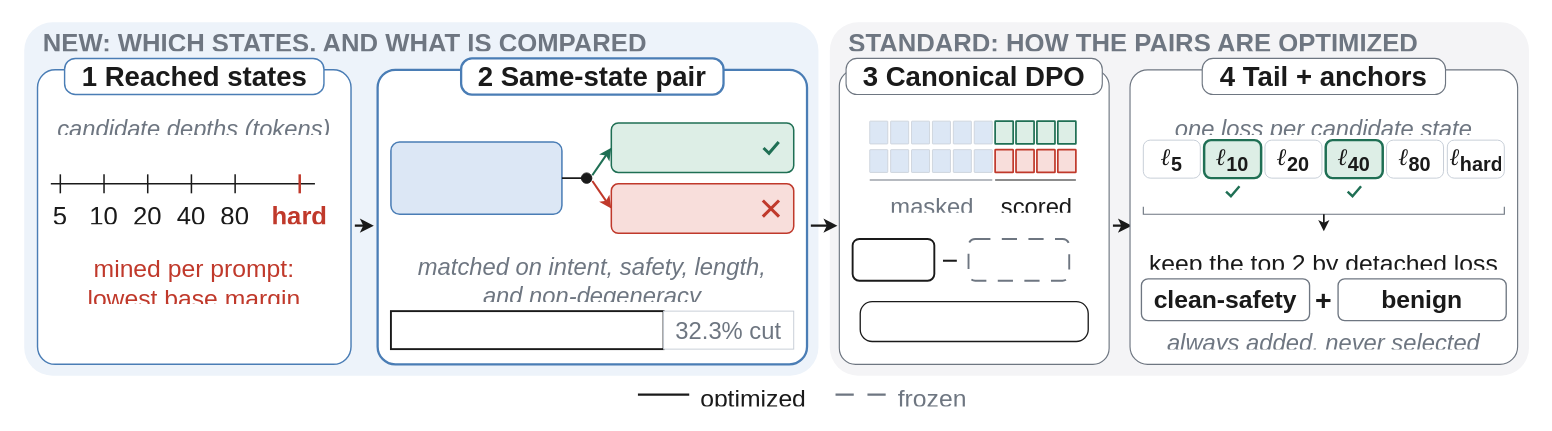
This 1552x431 diagram has some shape labels left out. Each missing label, with the box of its shape:
67.7% kept: (390, 310, 664, 350)
harmful u t: (610, 183, 794, 234)
not a new loss: (859, 300, 1088, 342)
recovery r t: (610, 122, 794, 173)
s t identical state: (390, 141, 562, 215)
π ref: (967, 238, 1070, 281)
π θ: (851, 238, 935, 281)
